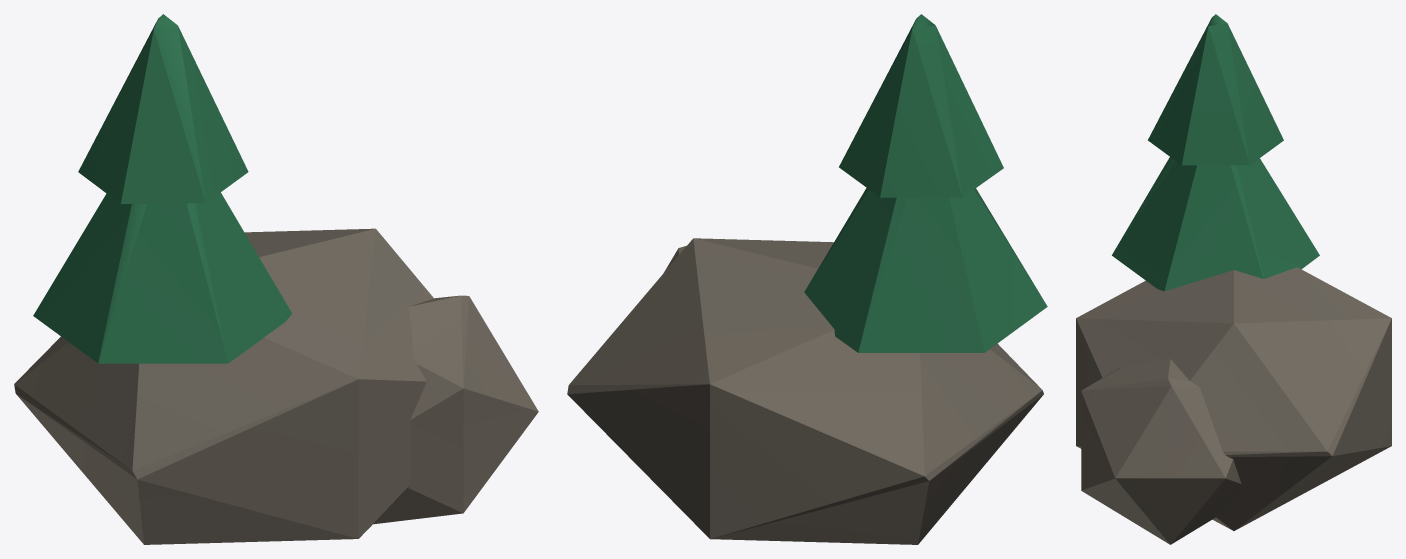
Rendered from prop_boulderpine_lod2.glb.
The picture shows the model from 3 angles, left to right: view 1: azimuth 30°, elevation 25°; view 2: azimuth 150°, elevation 25°; view 3: azimuth 270°, elevation 25°; orthographic projection. The views are drawn at different scales.
Visible parts, largest first — view 1: prop_boulderpine_lod2; view 2: prop_boulderpine_lod2; view 3: prop_boulderpine_lod2.
Part boxes in pixels (x1=…): prop_boulderpine_lod2: x1=14, y1=14, x2=538, y2=544; prop_boulderpine_lod2: x1=567, y1=14, x2=1047, y2=544; prop_boulderpine_lod2: x1=1076, y1=14, x2=1391, y2=544.
Size of the model in its own units: 2.09 by 2.62 by 1.74.
